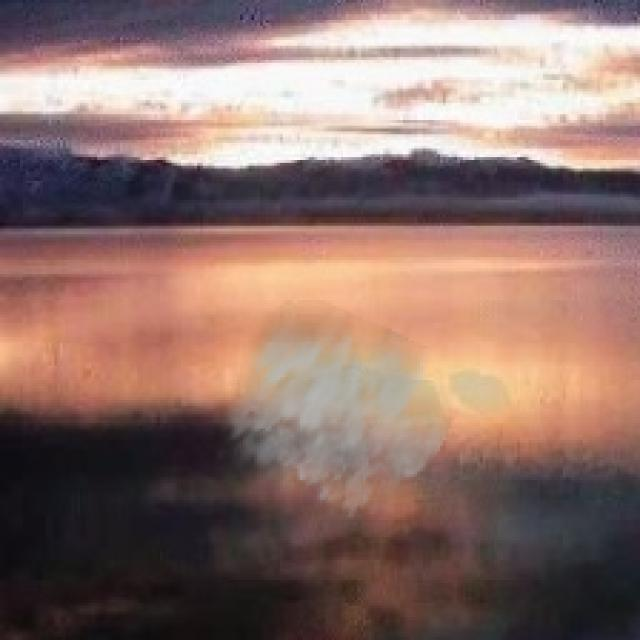Smoke: (211, 286, 463, 520)
